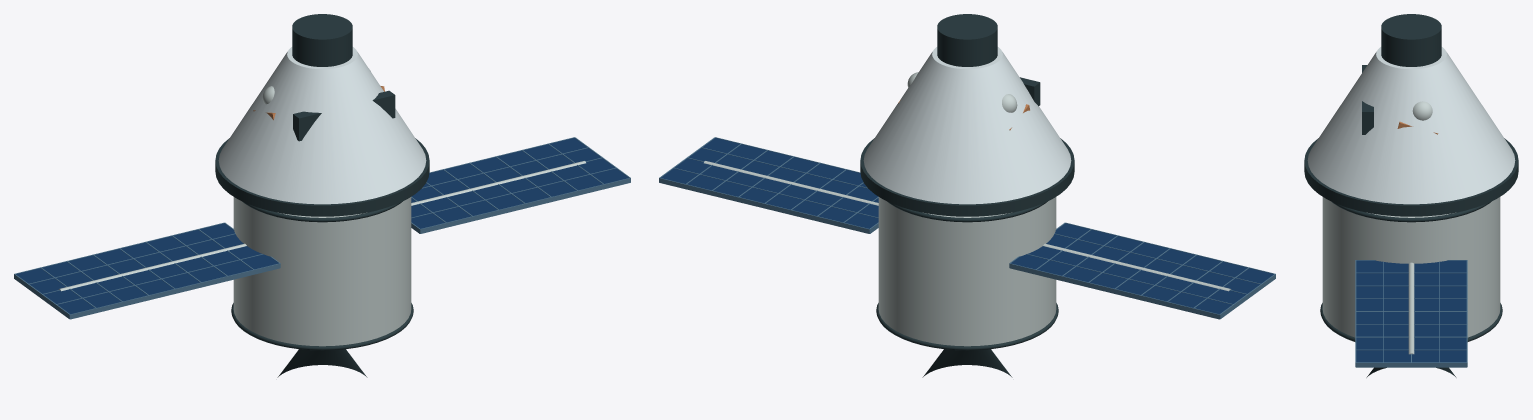
File: orion.glb
3 renders of one model, left to right at view 1: azimuth 30°, elevation 25°; view 2: azimuth 150°, elevation 25°; view 3: azimuth 270°, elevation 25°, orthographic.
Visible parts, largest first — view 1: solar, service, body, heatshield, docking, crew, propulsion; view 2: solar, service, body, heatshield, docking, propulsion, crew; view 3: body, service, solar, heatshield, docking, crew.
Part boxes in pixels (x1,y1,x2,y2): solar: [14, 137, 630, 319]; service: [231, 197, 413, 350]; body: [218, 47, 426, 204]; heatshield: [215, 138, 429, 216]; docking: [292, 14, 352, 66]; crew: [253, 69, 395, 141]; propulsion: [277, 349, 367, 377]; solar: [659, 137, 1275, 319]; service: [876, 197, 1058, 350]; body: [863, 47, 1071, 204]; heatshield: [860, 138, 1074, 216]; docking: [937, 14, 997, 66]; propulsion: [922, 349, 1012, 377]; crew: [898, 72, 1040, 130]; body: [1307, 47, 1515, 204]; service: [1320, 197, 1502, 341]; solar: [1355, 260, 1467, 367]; heatshield: [1304, 138, 1518, 216]; docking: [1381, 14, 1441, 66]; crew: [1362, 65, 1438, 134].
Bounding box in the file's own units: 6.41 × 3.92 × 2.12.
